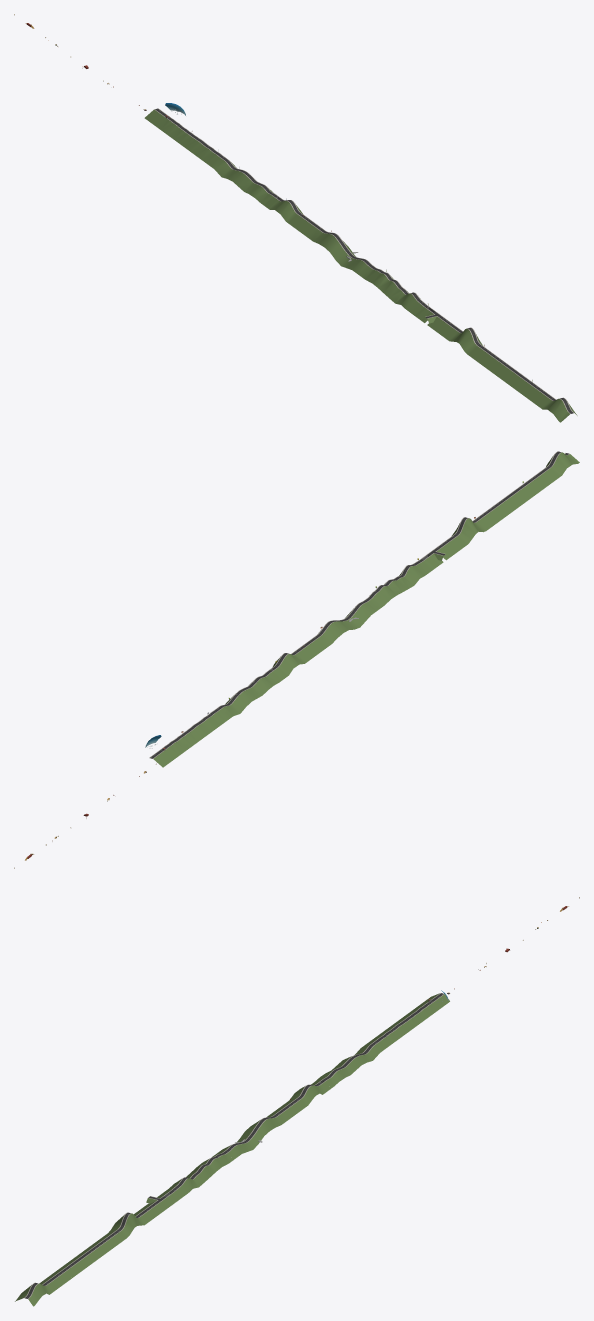
Rendered from level_1_beach.glb.
3 views of the same model, one above another, from view 1: azimuth 30°, elevation 25°; view 2: azimuth 150°, elevation 25°; view 3: azimuth 330°, elevation 25° (orthographic).
Parts seen in each view (by area): view 1: road_normal_15, road_normal_02, road_normal_01, road_easy_00, road_easy_01; view 2: road_normal_15, road_normal_02, road_normal_01, road_easy_01, road_easy_00; view 3: road_normal_15, road_normal_02, road_normal_01, road_easy_01, road_easy_00.
Part boxes in pixels (x1,y1,x2,y2): road_normal_15: [361, 267, 427, 315]; road_normal_02: [307, 227, 374, 276]; road_normal_01: [210, 156, 277, 205]; road_easy_00: [468, 345, 535, 393]; road_easy_01: [157, 117, 223, 165]; road_normal_15: [366, 560, 433, 608]; road_normal_02: [312, 599, 379, 647]; road_normal_01: [215, 670, 282, 719]; road_easy_01: [161, 710, 228, 758]; road_easy_00: [473, 481, 540, 530]; road_normal_15: [161, 1151, 233, 1199]; road_normal_02: [214, 1112, 286, 1159]; road_normal_01: [312, 1041, 384, 1088]; road_easy_01: [366, 1002, 437, 1049]; road_easy_00: [54, 1230, 125, 1277].
Size of what is drawn, in the model's own units: 58.1 by 45.79 by 2021.
Materials: 7 (7 with a texture image).
